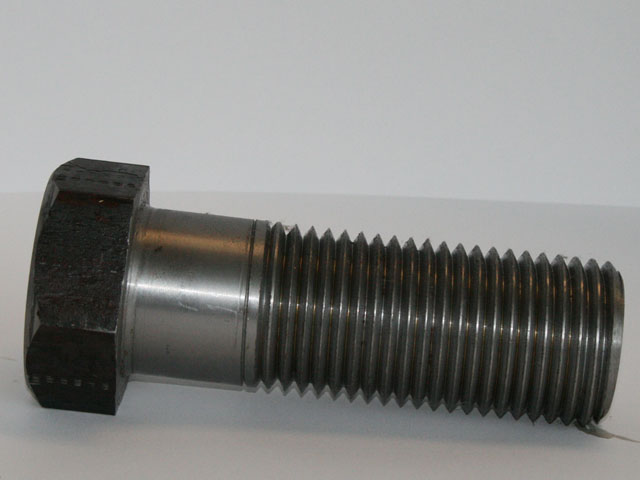screw: (23, 158, 624, 426)
